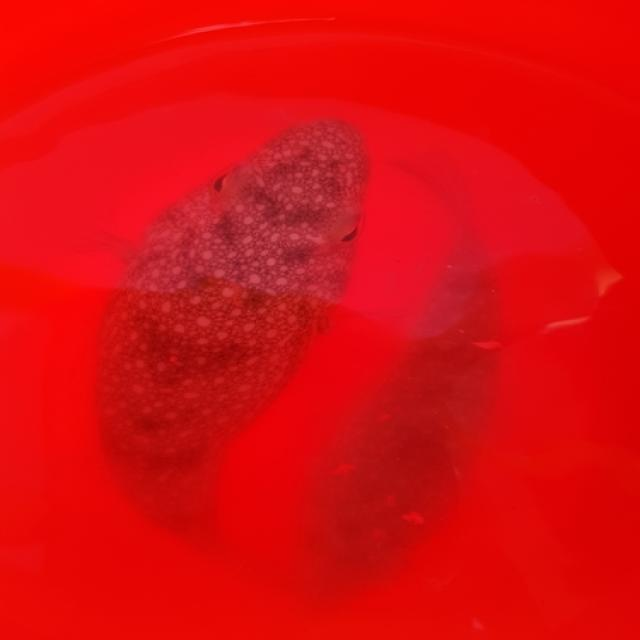Balik: (99, 120, 368, 532)
